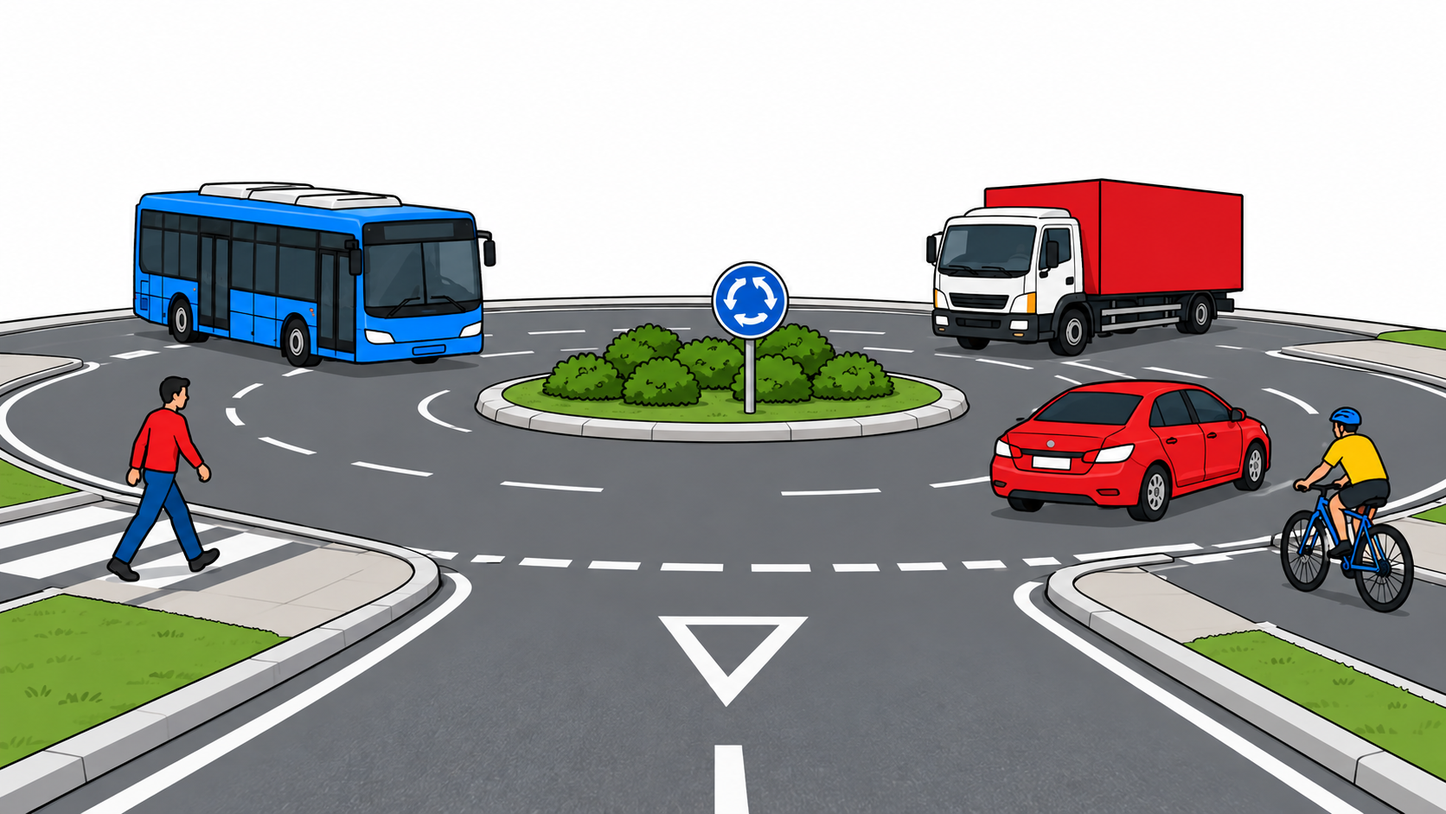bicycle: (1278, 471, 1424, 609)
bus: (133, 183, 497, 367)
car: (986, 378, 1273, 520)
person: (1290, 405, 1416, 609), (106, 376, 221, 582)
truck: (925, 179, 1246, 363)
